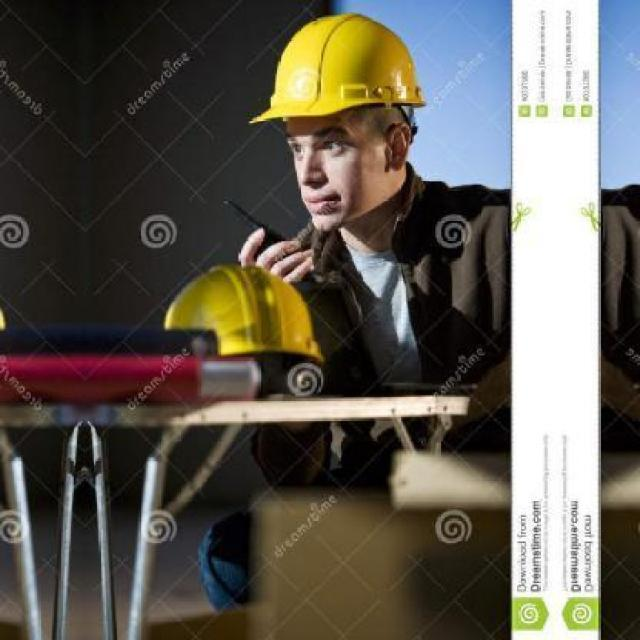hat: (246, 6, 439, 125), (163, 260, 332, 383)
